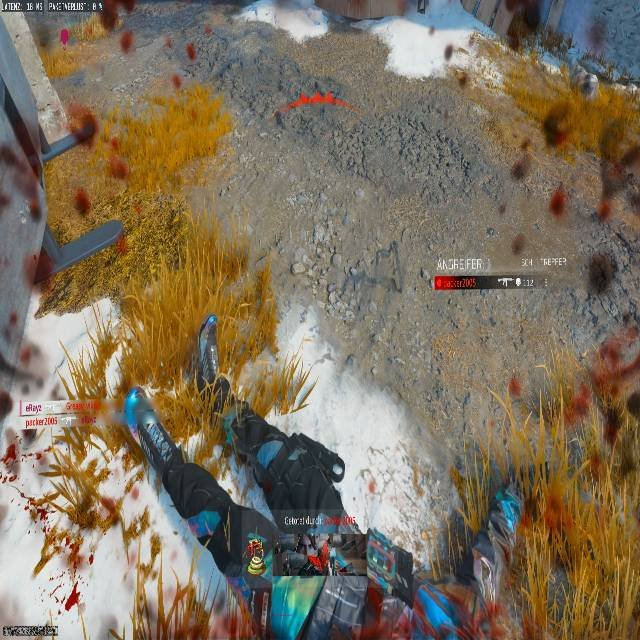player: (496, 0, 543, 53)
